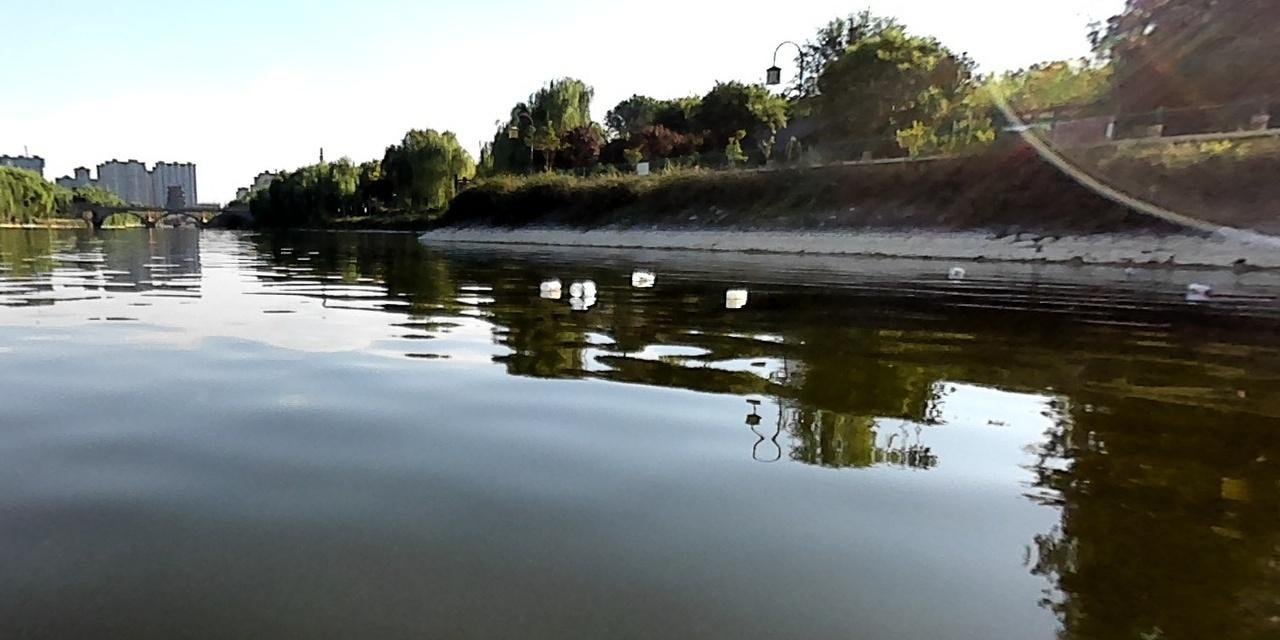bottle: (568, 277, 597, 295), (1182, 280, 1214, 296), (629, 269, 654, 281), (723, 287, 748, 298), (539, 279, 560, 291)
